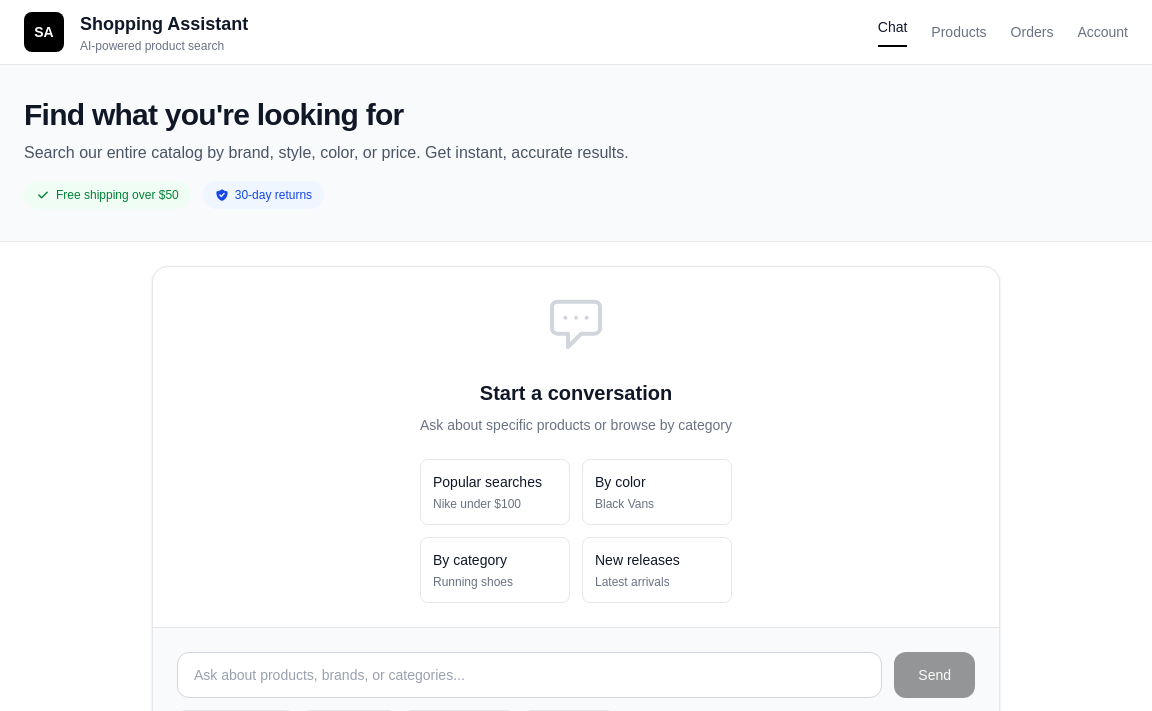
Scenario: <ChatHome /> › sends a message and shows assistant reply
Type "how much are the air max?" into the field with placeholder "Ask about products, brands, or categories...".
click(530, 675); type("how much are the air max?")  # box [177, 652, 882, 698]
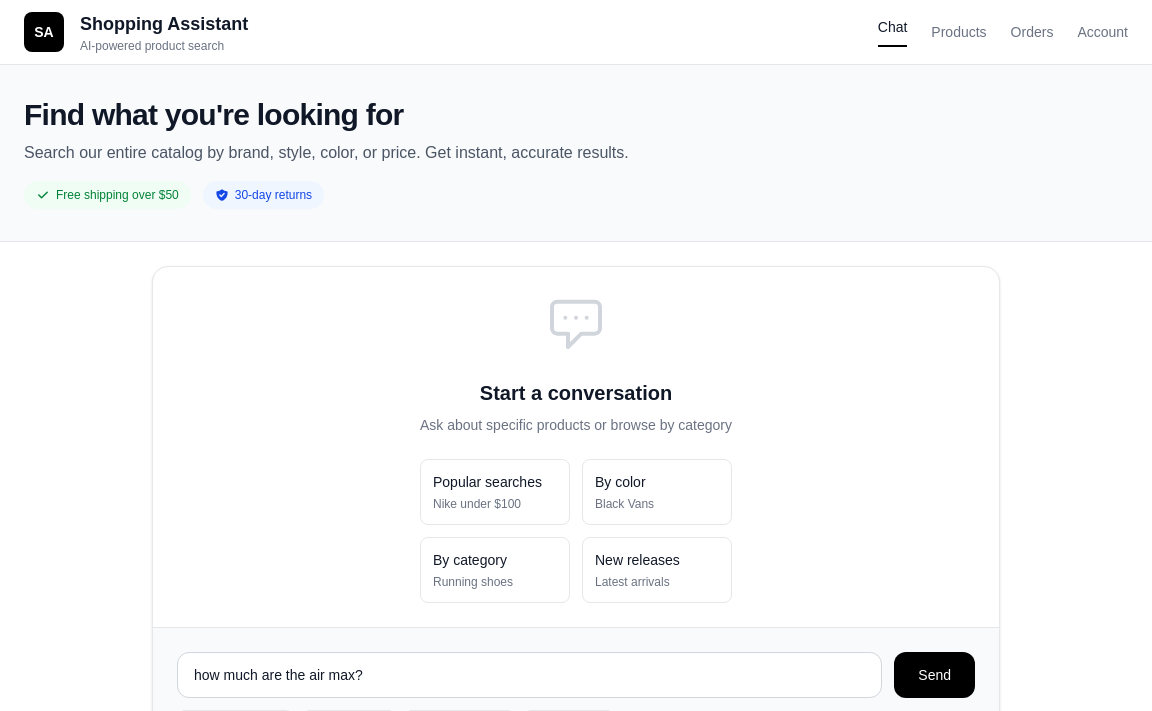
Press Enter in the field with placeholder "Ask about products, brands, or categories...", box [177, 652, 882, 698]
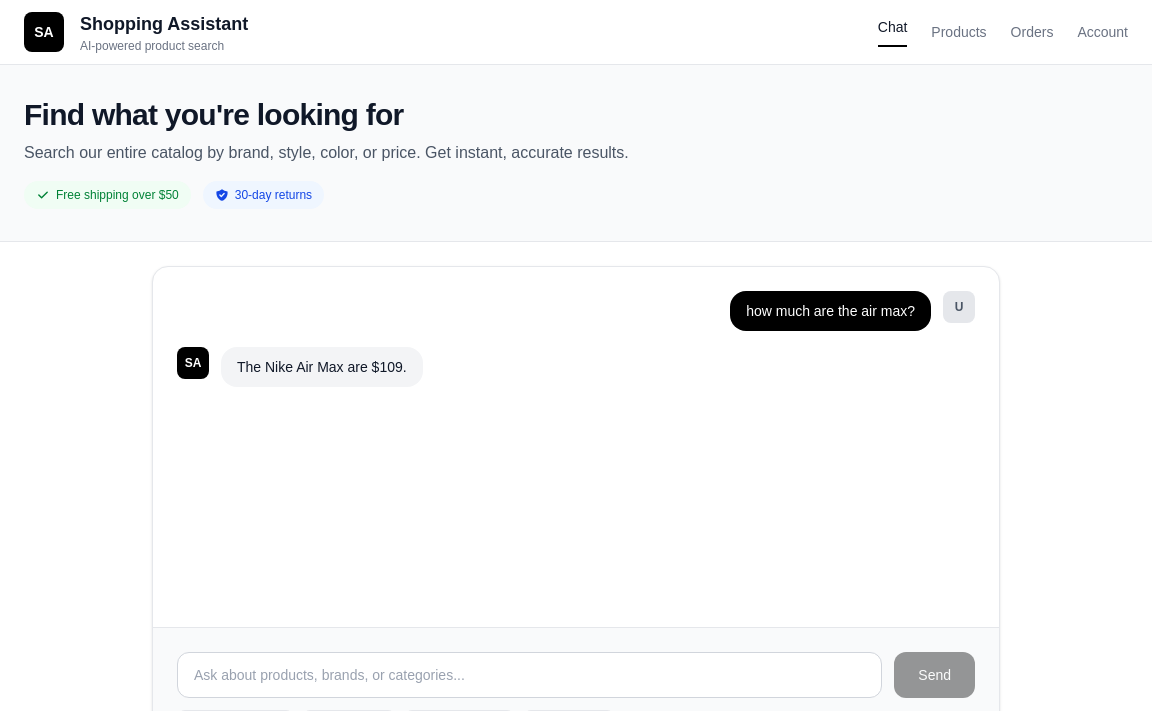
Expected: the text "how much are the air max?" is shown, [730, 291, 931, 331]
Expected: the text "The Nike Air Max are $109." is shown, [221, 347, 423, 387]
